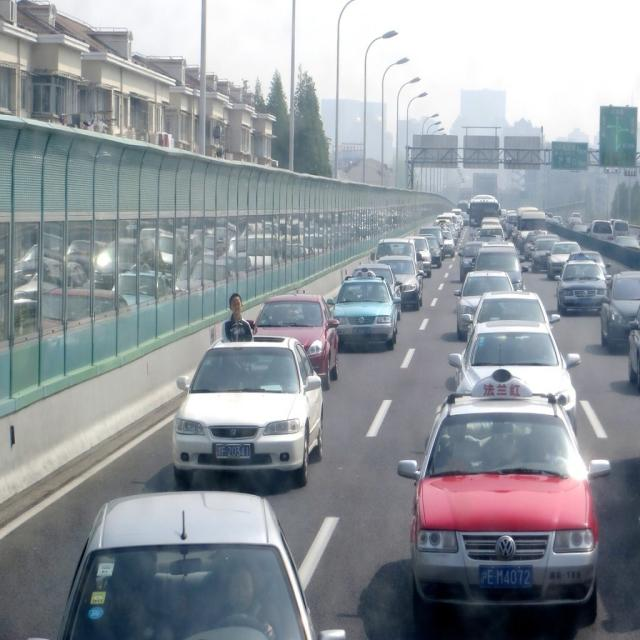Carro Branco: (167, 330, 331, 487)
Carro Prata: (58, 494, 322, 640), (454, 326, 585, 429), (470, 293, 556, 365), (457, 272, 521, 326)
Carro Preto: (601, 272, 640, 364)
Carro Vermelho: (248, 294, 343, 377)
Taxi: (403, 375, 606, 623), (334, 272, 399, 348), (559, 258, 611, 317)
